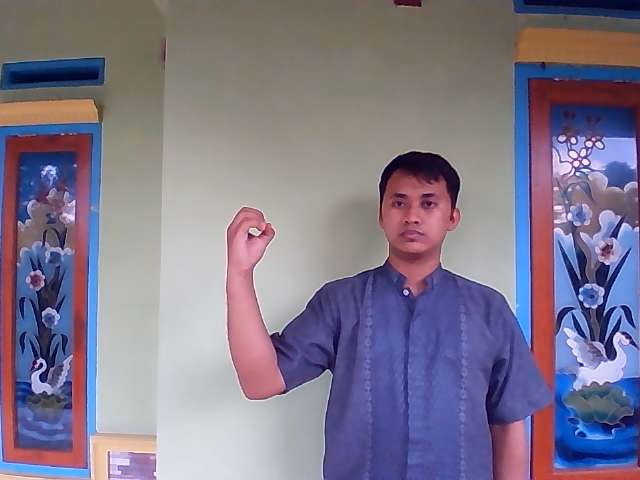O: (222, 204, 276, 287)
